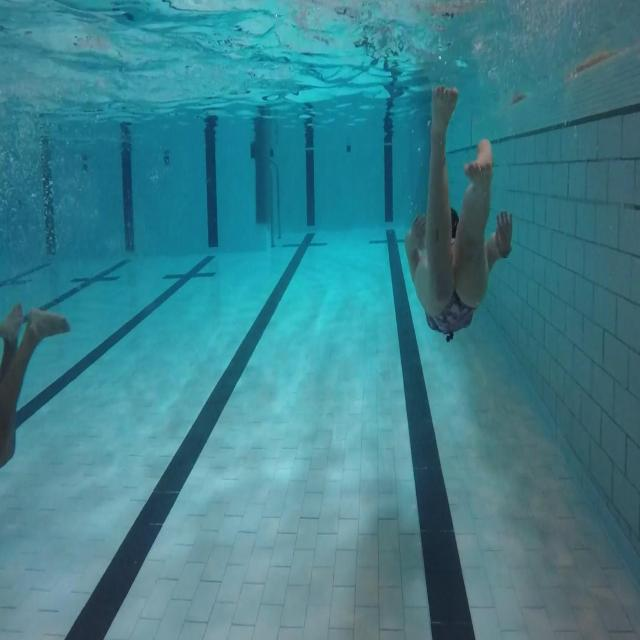human: (404, 84, 512, 342), (0, 300, 71, 486)
